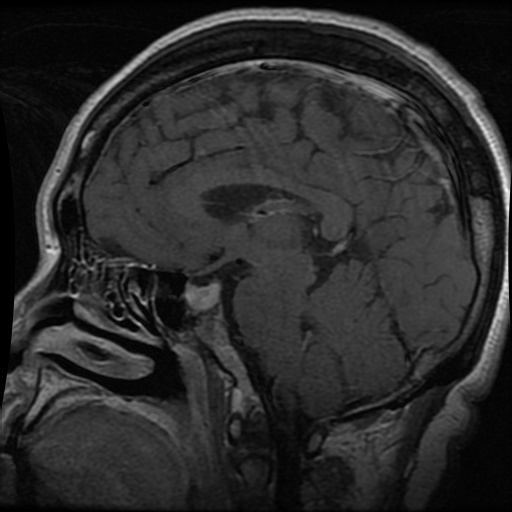pituitary: (184, 282, 219, 311)
